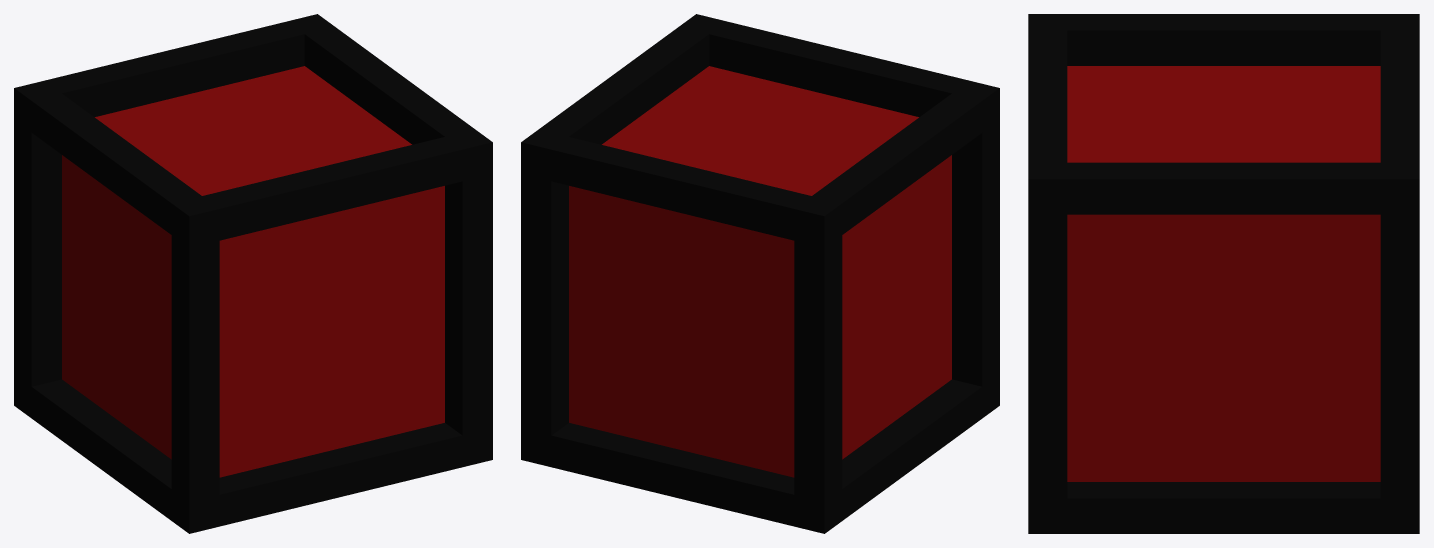
The model's file is inset-cube.dae.
The picture shows the model from 3 angles, left to right: view 1: azimuth 30°, elevation 25°; view 2: azimuth 150°, elevation 25°; view 3: azimuth 270°, elevation 25°; orthographic projection. The views are drawn at different scales.
Parts seen in each view (by area): view 1: SketchUp (×3); view 2: SketchUp (×3); view 3: SketchUp (×3).
Boxes of the visible parts, x1,y1,x2,y2 form: SketchUp (×3): (14,14,492,533); SketchUp (×3): (521,14,999,533); SketchUp (×3): (1028,14,1419,533).
Size of the model in its own units: 197 by 197 by 197.
